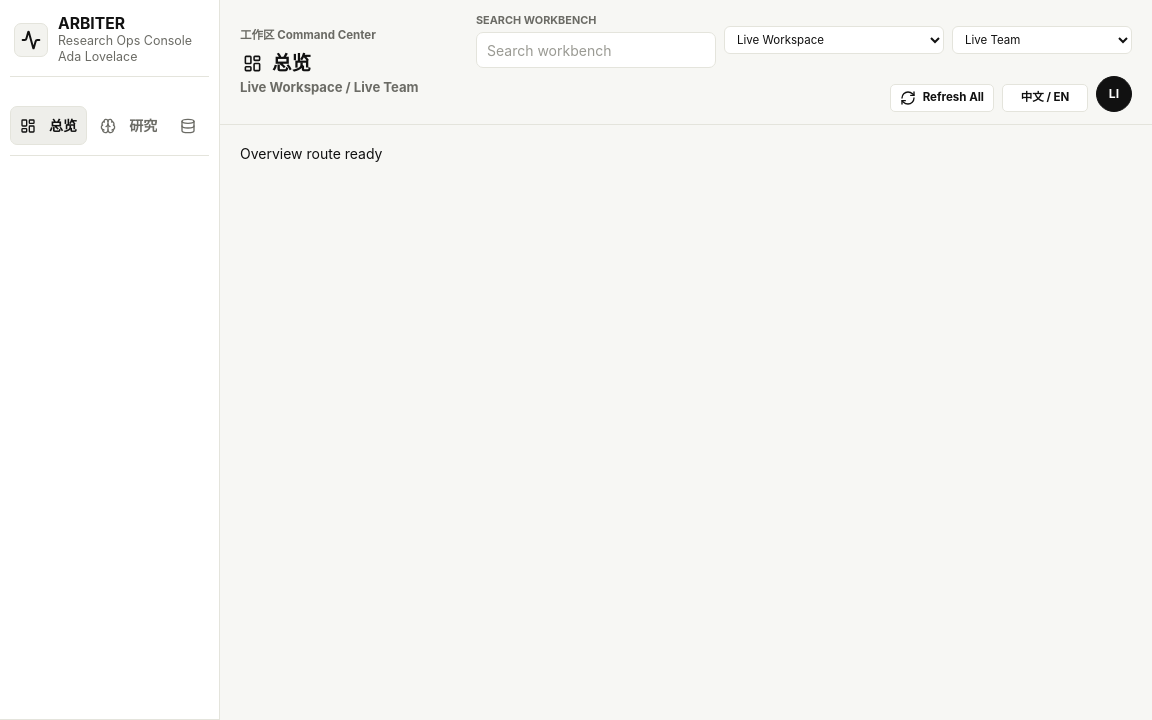
Scenario: SPA delivery gating › AppShell language toggle switches chrome labels and persists preference
Expected: the text "Overview route ready" is shown, [240,145,382,162]
Expected: the field labelled "Search workbench" is shown, [476,32,716,68]
Click the button with aria-label "EN / 中文". click: (1045, 98)
box: [1002,84,1088,112]
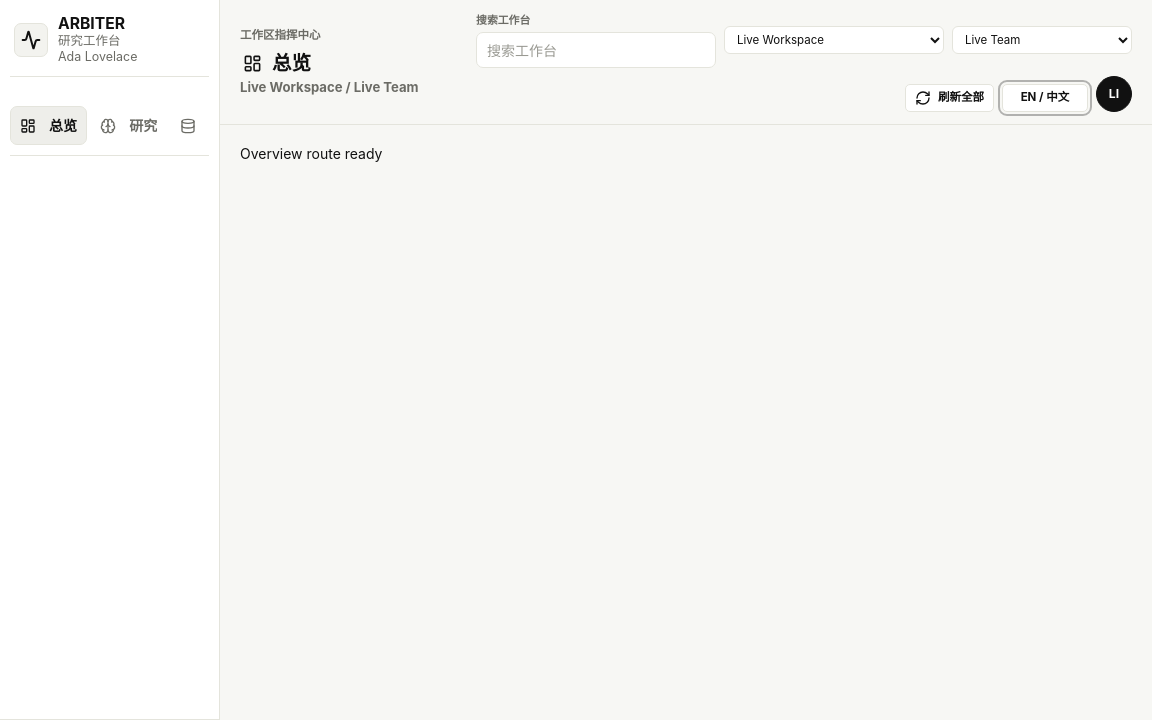
Expected: the field labelled "搜索工作台" is shown, [476,32,716,68]
Click the button "EN / 中文". click: (1045, 98)
box: [1002,84,1088,112]
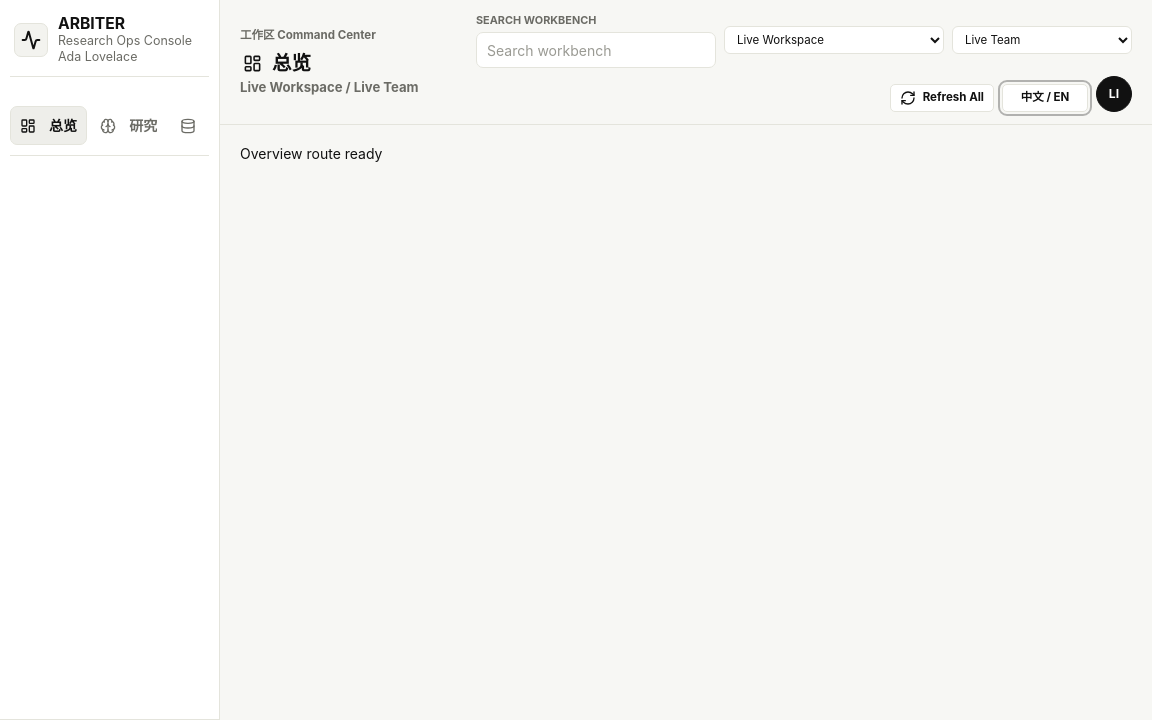
Expected: the field labelled "Search workbench" is shown, [476,32,716,68]
